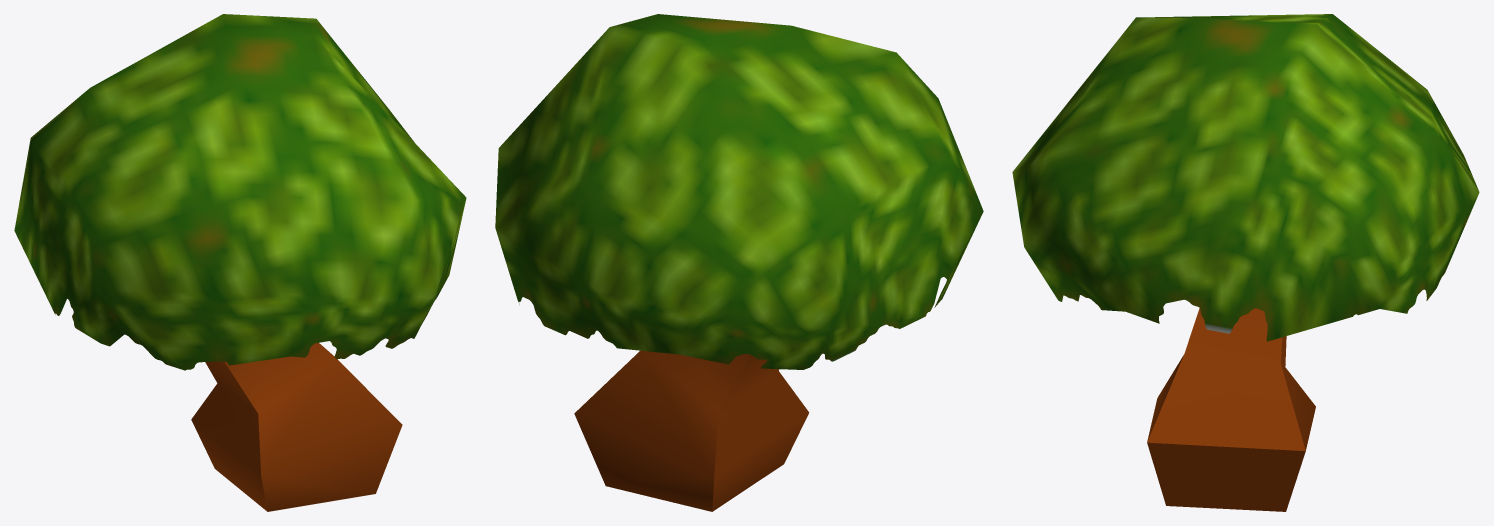
Rendered from SM_Tree_F04.fbx.
3 views of the same model, side by side, from view 1: azimuth 30°, elevation 25°; view 2: azimuth 150°, elevation 25°; view 3: azimuth 270°, elevation 25° (orthographic). The views are drawn at different scales.
Parts seen in each view (by area): view 1: SM_Tree_F04; view 2: SM_Tree_F04; view 3: SM_Tree_F04.
Part boxes in pixels (bbox=[...]): SM_Tree_F04: bbox=[14, 14, 466, 511]; SM_Tree_F04: bbox=[495, 14, 983, 511]; SM_Tree_F04: bbox=[1012, 14, 1479, 511].
Size of the model in its own units: 329 by 375 by 356.
